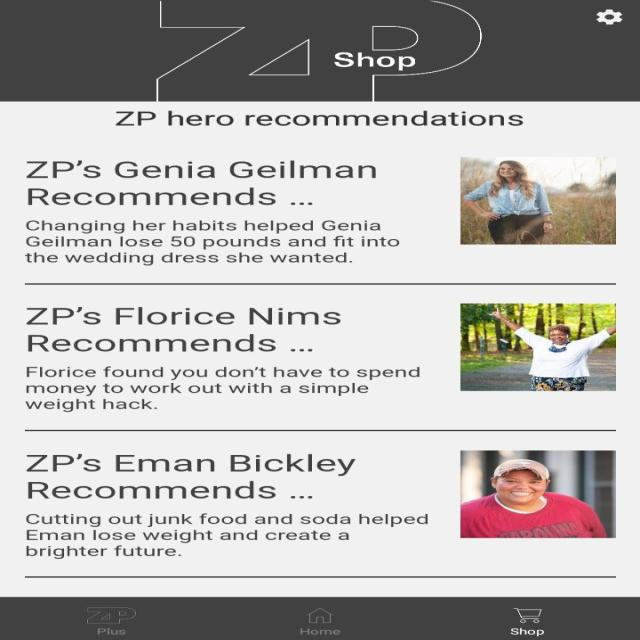Icon: (512, 607, 540, 622), (306, 608, 334, 622), (596, 10, 622, 24)
Image: (156, 0, 480, 101), (460, 450, 616, 538), (460, 157, 616, 245), (460, 303, 616, 390), (87, 607, 136, 623)
Text: (25, 512, 428, 558), (24, 366, 420, 412), (24, 220, 399, 265), (26, 160, 376, 206), (26, 453, 356, 499), (26, 307, 340, 352), (116, 111, 524, 126), (333, 52, 415, 71), (300, 627, 340, 635), (509, 628, 543, 636), (98, 627, 126, 635)
